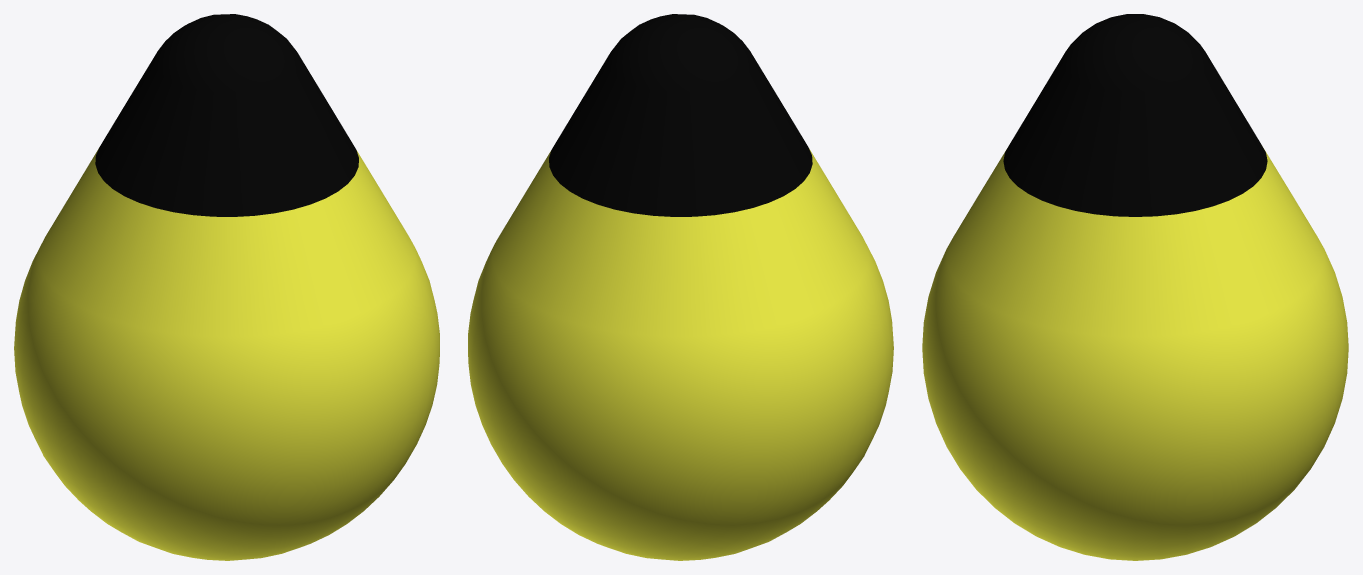
The model's file is A-2-Yellow.dae.
The picture shows the model from 3 angles, left to right: view 1: azimuth 30°, elevation 25°; view 2: azimuth 150°, elevation 25°; view 3: azimuth 270°, elevation 25°; orthographic projection.
Parts seen in each view (by area): view 1: A-2-Yellow; view 2: A-2-Yellow; view 3: A-2-Yellow.
Boxes of the visible parts, <box> form: A-2-Yellow: <box>14,14,439,560</box>; A-2-Yellow: <box>468,14,893,560</box>; A-2-Yellow: <box>922,14,1348,560</box>.
Size of the model in its own units: 14.49 by 14.5 by 19.47.
